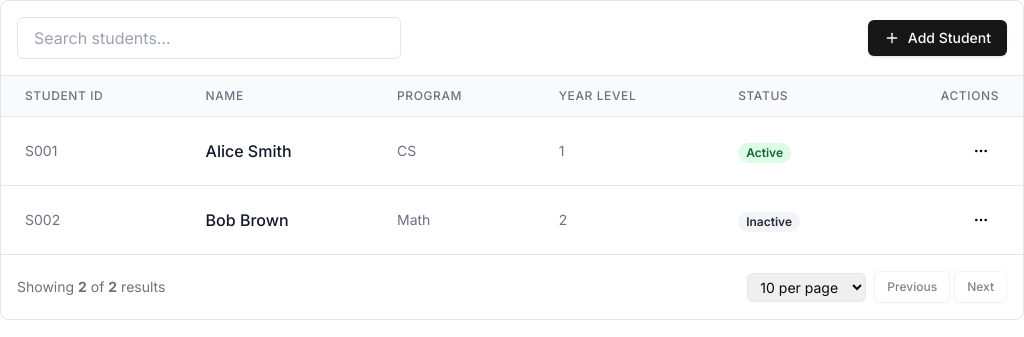
Scenario: StudentsTable › filters students by search
In the field with placeholder "Search students...": (209, 38) [17, 17, 401, 59], type "Alice"
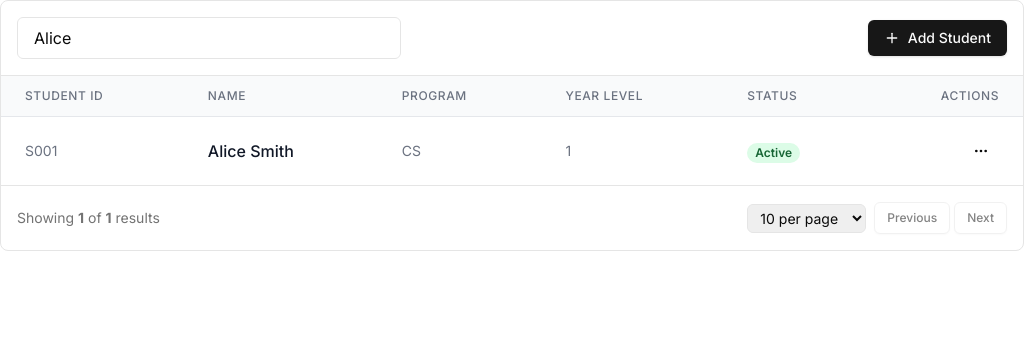
Expected: the text "Alice Smith" is shown, [208, 141, 294, 161]
Now the text "Bob Brown" is gone
